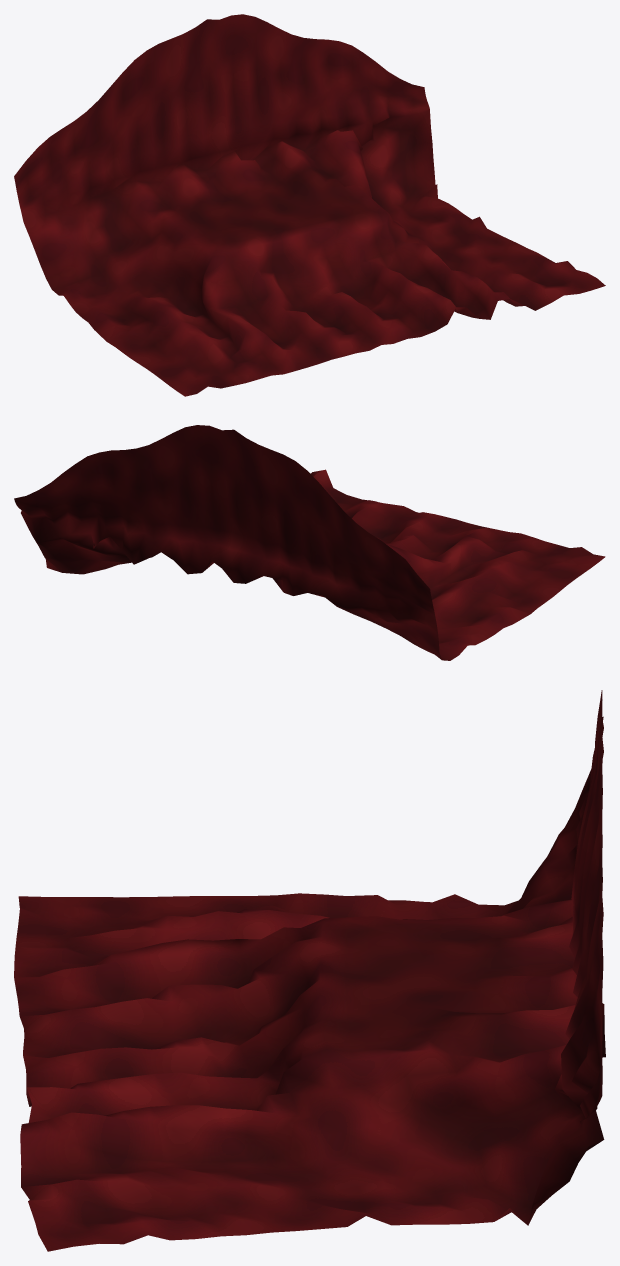
The model's file is cloth.glb.
3 renders of one model, top to bottom at view 1: azimuth 30°, elevation 25°; view 2: azimuth 150°, elevation 25°; view 3: azimuth 270°, elevation 25°, orthographic. The views are drawn at different scales.
Parts seen in each view (by area): view 1: Cloth; view 2: Cloth; view 3: Cloth.
Part boxes in pixels (<box>): Cloth: <box>14,14,605,396</box>; Cloth: <box>14,425,605,660</box>; Cloth: <box>14,690,605,1251</box>.
Size of the model in its own units: 2.93 by 1.33 by 2.06.
1 material, 1 textured.
